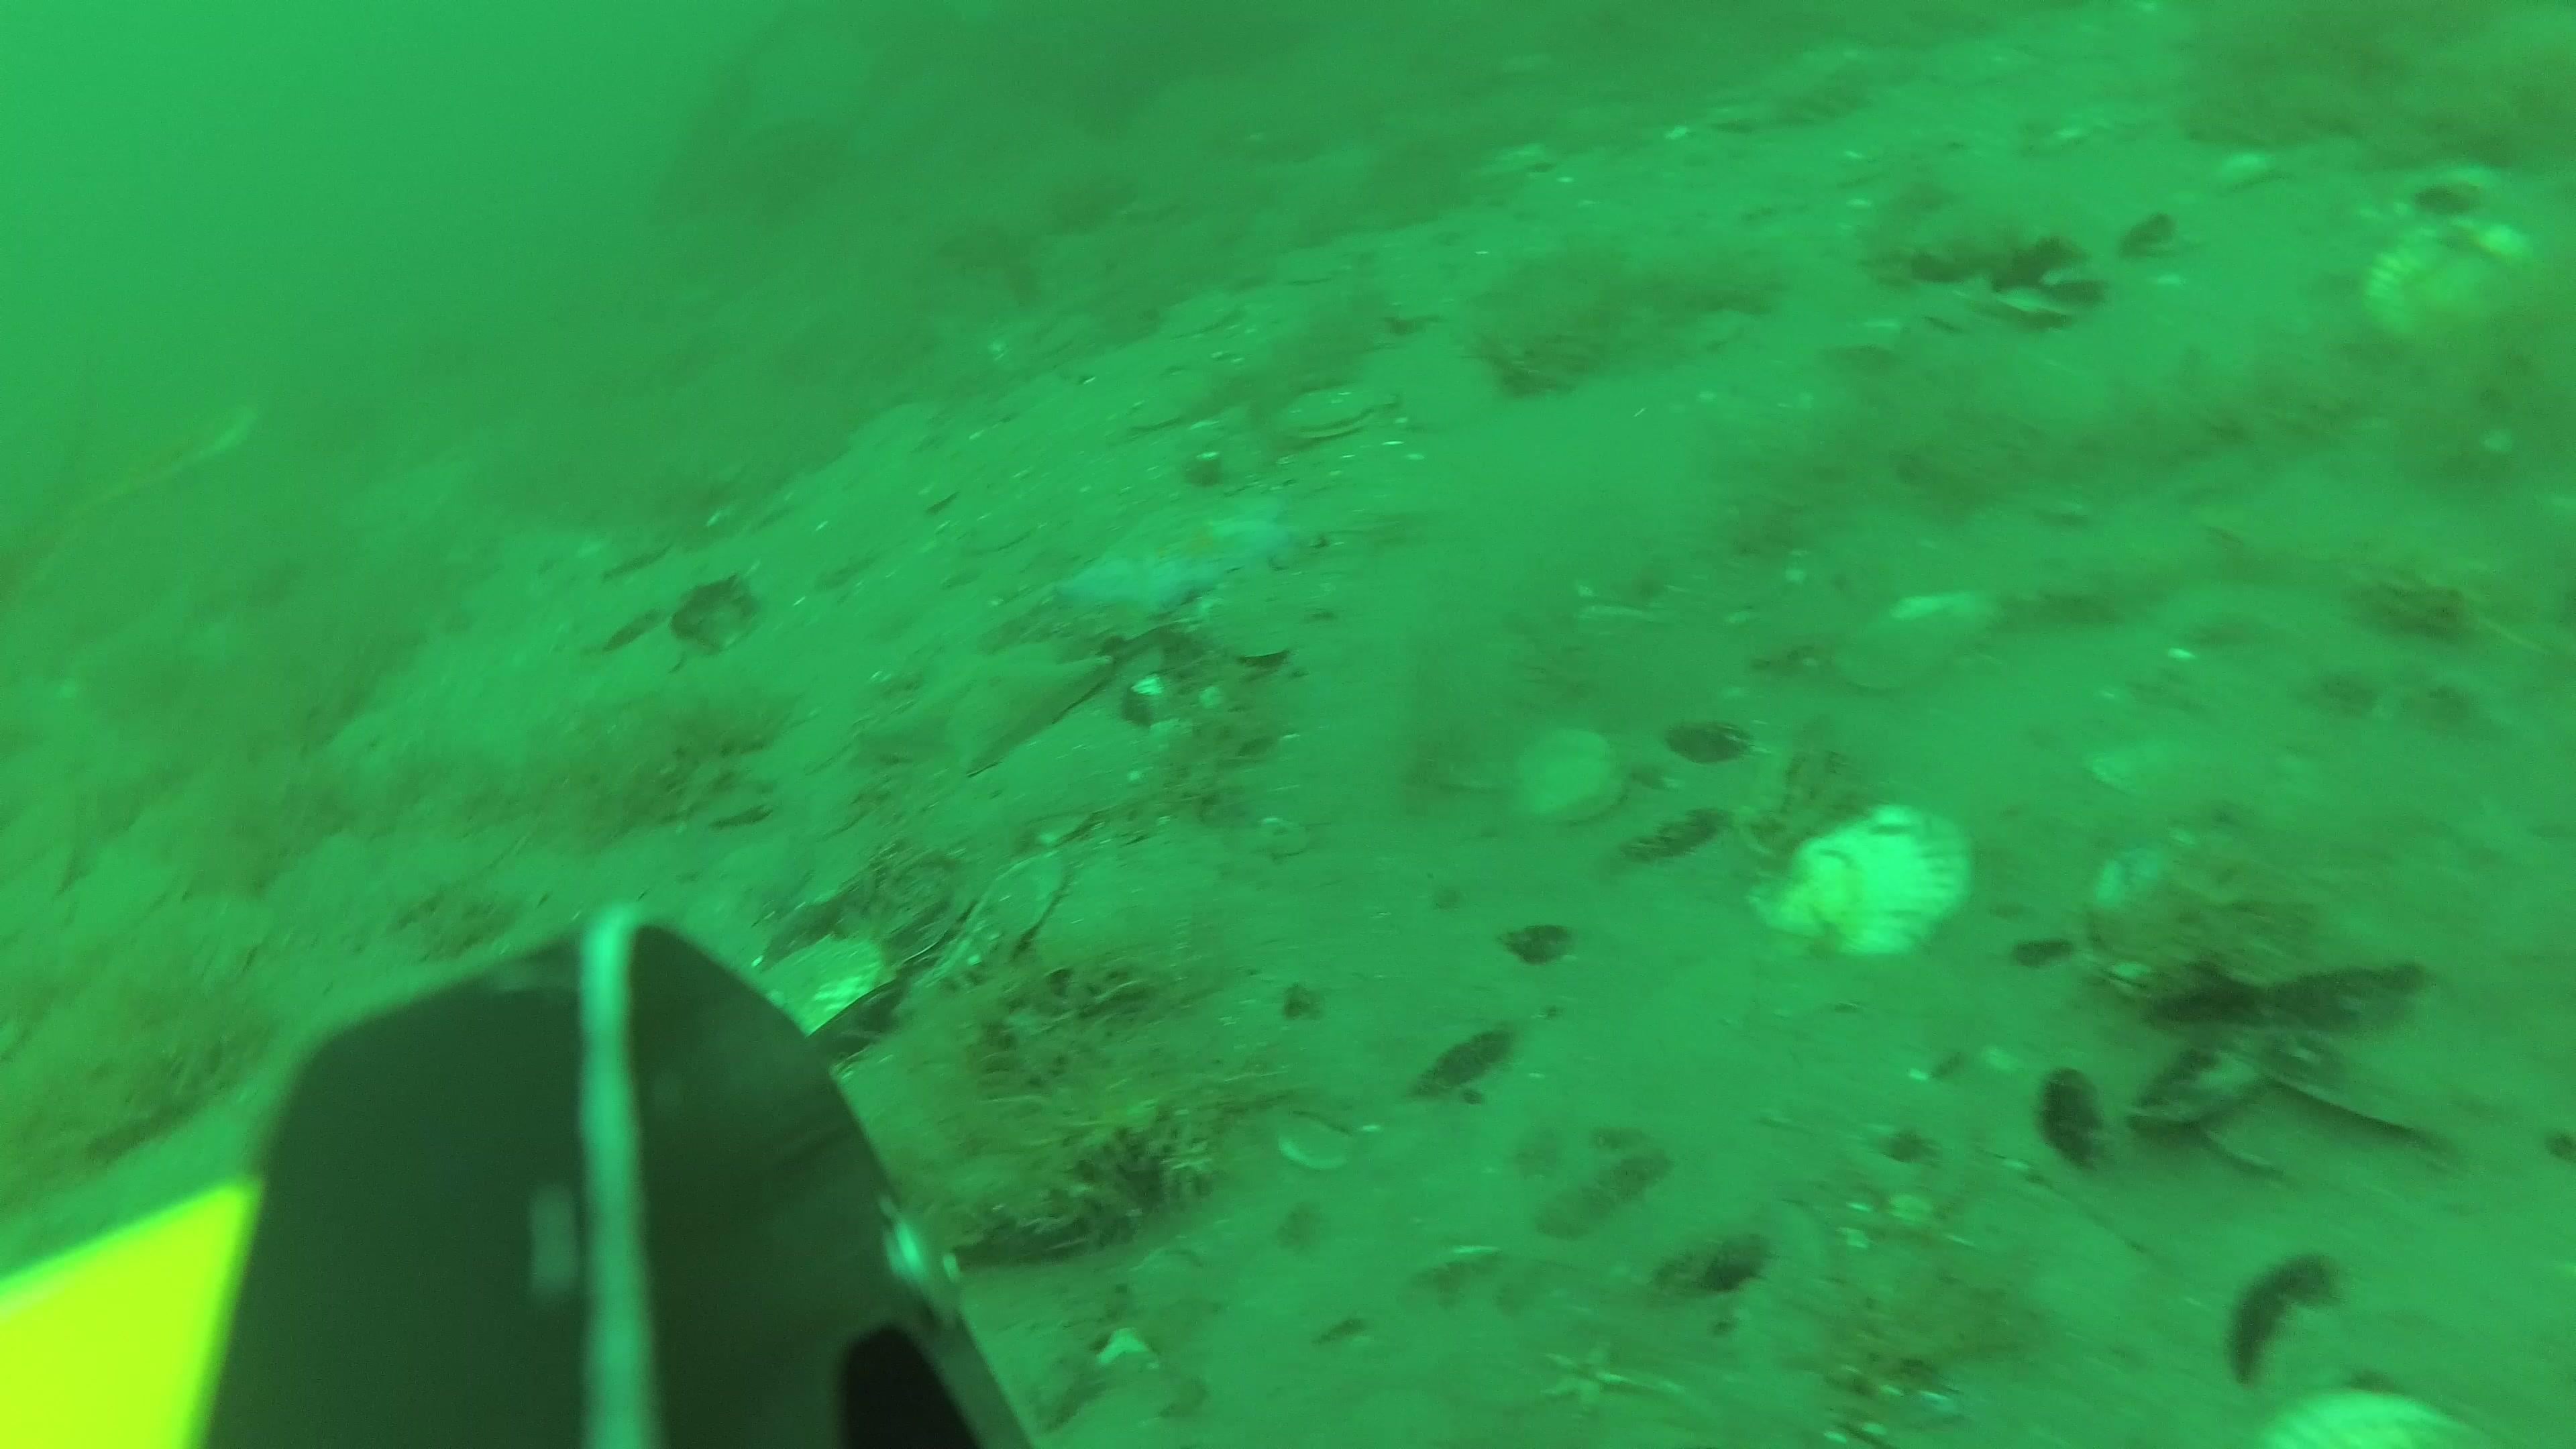scallop: (1752, 800, 1974, 945), (2353, 216, 2535, 352), (734, 939, 892, 1060), (1836, 586, 1997, 695), (2249, 1387, 2470, 1449), (1522, 722, 1635, 830), (1407, 356, 1499, 433), (1274, 389, 1394, 441)
starfish: (865, 628, 1099, 773), (1065, 492, 1286, 602)
